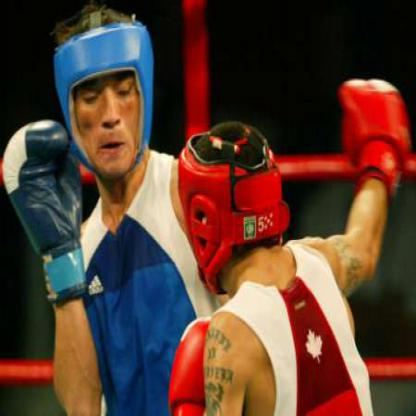face: (70, 13, 149, 180)
